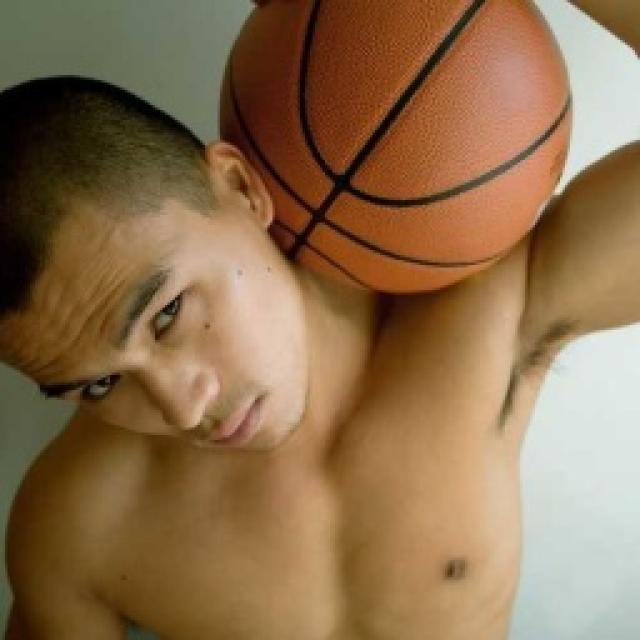rim: (208, 0, 586, 304)
